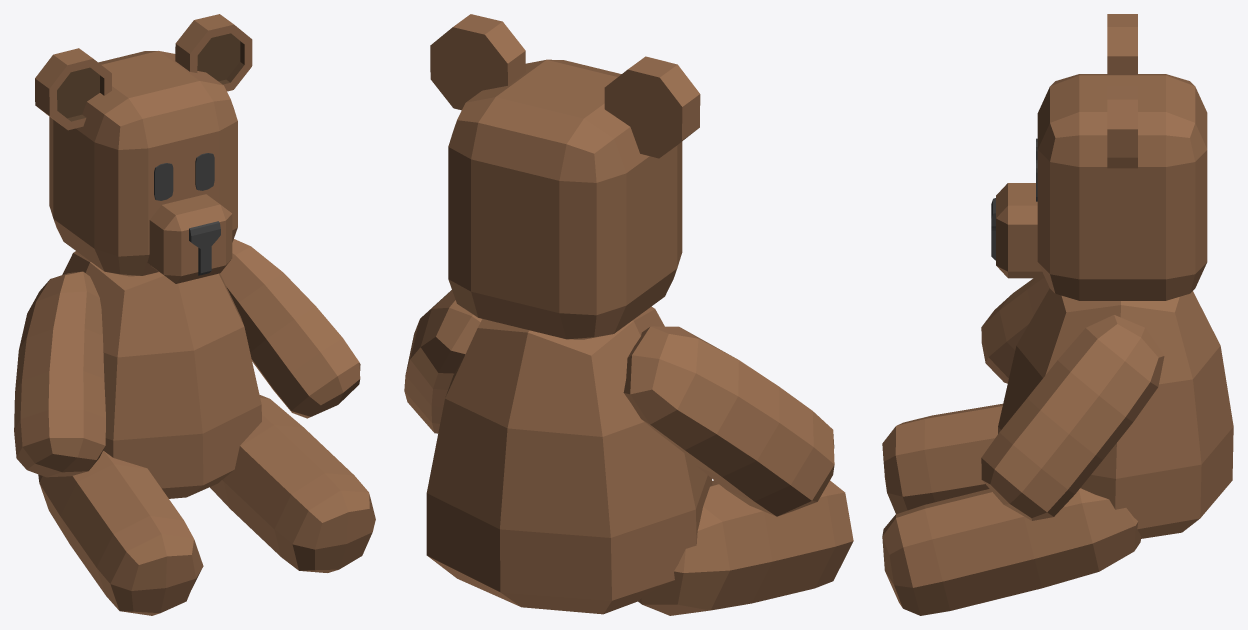
The model's file is bear.fbx.
The picture shows the model from 3 angles, left to right: view 1: azimuth 30°, elevation 25°; view 2: azimuth 150°, elevation 25°; view 3: azimuth 270°, elevation 25°; orthographic projection. The views are drawn at different scales.
Visible parts, largest first — view 1: legs, body, arms, head, Cylinder, Cube, eyes, nose; view 2: body, head, arms, legs, Cylinder; view 3: head, legs, body, arms, Cylinder, Cube.
Boxes of the visible parts, x1=… form: legs: x1=38, y1=395, x2=375, y2=615; body: x1=62, y1=251, x2=261, y2=498; arms: x1=14, y1=239, x2=360, y2=477; head: x1=49, y1=51, x2=237, y2=276; Cylinder: x1=35, y1=14, x2=252, y2=130; Cube: x1=147, y1=194, x2=232, y2=283; eyes: x1=154, y1=153, x2=214, y2=200; nose: x1=189, y1=221, x2=220, y2=275; body: x1=426, y1=306, x2=712, y2=614; head: x1=448, y1=59, x2=682, y2=339; arms: x1=404, y1=290, x2=834, y2=516; legs: x1=638, y1=480, x2=853, y2=615; Cylinder: x1=430, y1=14, x2=700, y2=158; head: x1=1037, y1=74, x2=1207, y2=300; legs: x1=882, y1=403, x2=1141, y2=615; body: x1=998, y1=288, x2=1233, y2=538; arms: x1=981, y1=278, x2=1164, y2=520; Cylinder: x1=1107, y1=14, x2=1137, y2=168; Cube: x1=996, y1=183, x2=1044, y2=278.
Bounding box in the file's own units: 287 × 393 × 245.
